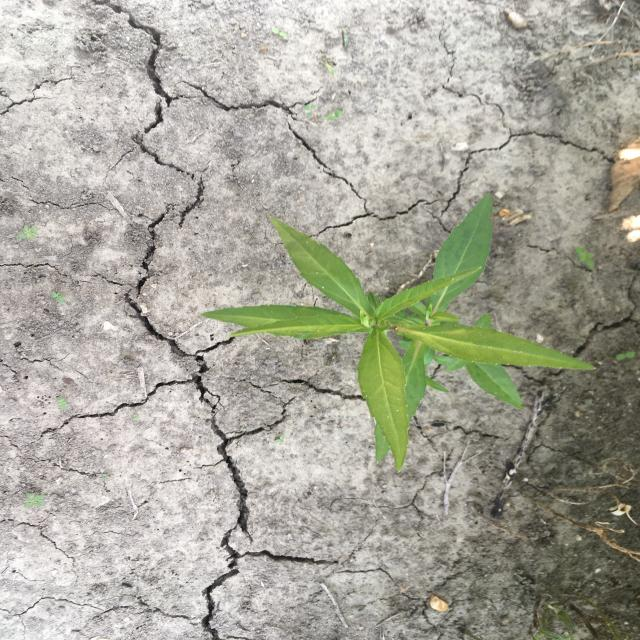Eclipta: (197, 190, 598, 473)
